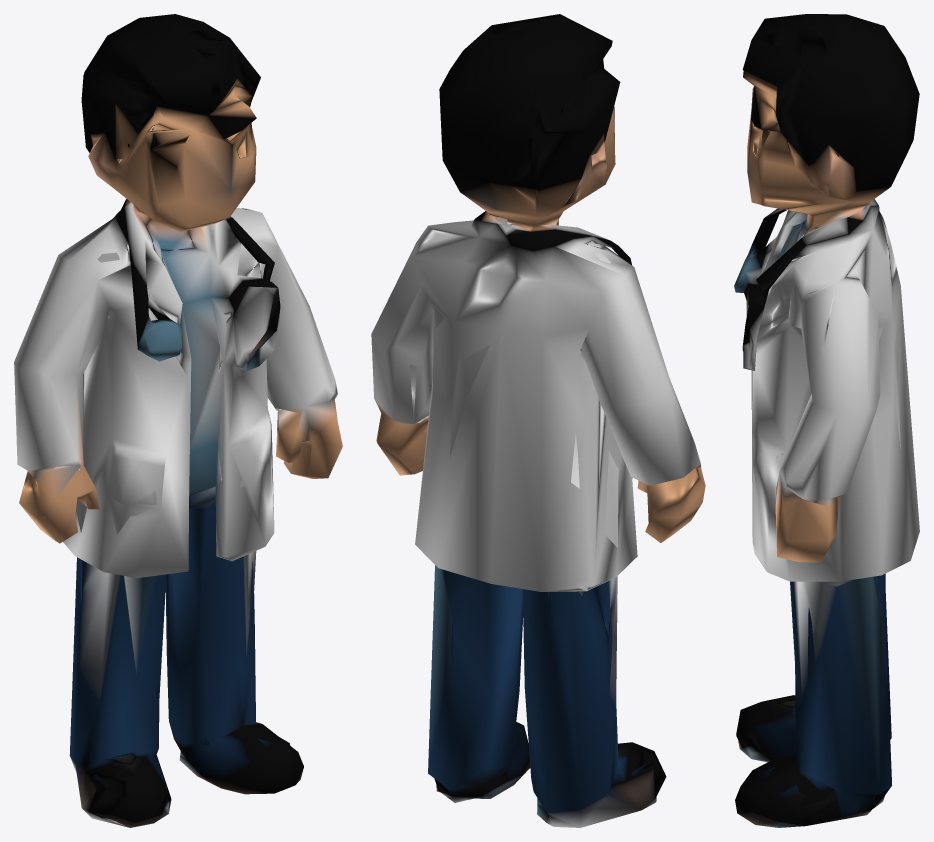
Rendered from gen3d-doctor-lod1.glb.
3 renders of one model, left to right at view 1: azimuth 30°, elevation 25°; view 2: azimuth 150°, elevation 25°; view 3: azimuth 270°, elevation 25°, orthographic.
Parts seen in each view (by area): view 1: part_0; view 2: part_0; view 3: part_0.
Boxes of the visible parts, box(x1,y1,x2,y2) form: part_0: box(14, 14, 342, 827); part_0: box(371, 14, 705, 827); part_0: box(734, 14, 919, 827).
Size of the model in its own units: 0.4328 by 0.9975 by 0.222.
